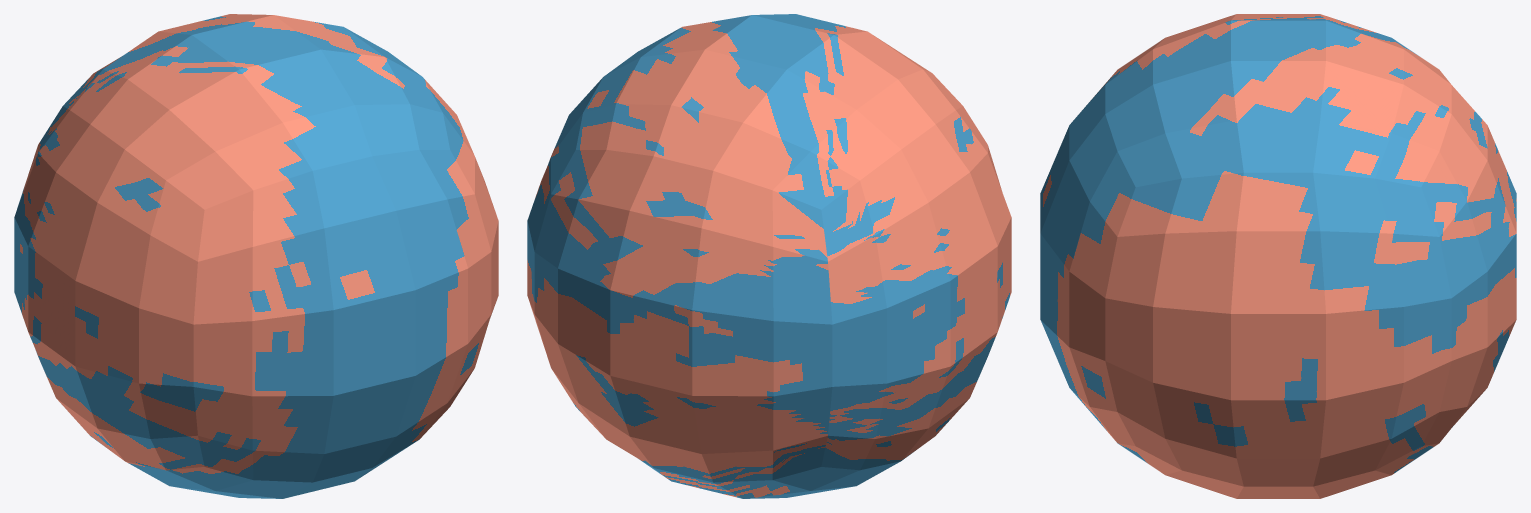
Rendered from earth.glb.
The picture shows the model from 3 angles, left to right: view 1: azimuth 30°, elevation 25°; view 2: azimuth 150°, elevation 25°; view 3: azimuth 270°, elevation 25°; orthographic projection.
Visible parts, largest first — view 1: Cube; view 2: Cube; view 3: Cube.
Part boxes in pixels (left/top/right/bottom): Cube: left=14, top=14, right=498, bottom=498; Cube: left=527, top=14, right=1011, bottom=498; Cube: left=1040, top=14, right=1516, bottom=498.
Bounding box in the file's own units: 24.85 × 24.85 × 24.85.
Materials: 1 (1 with a texture image).
